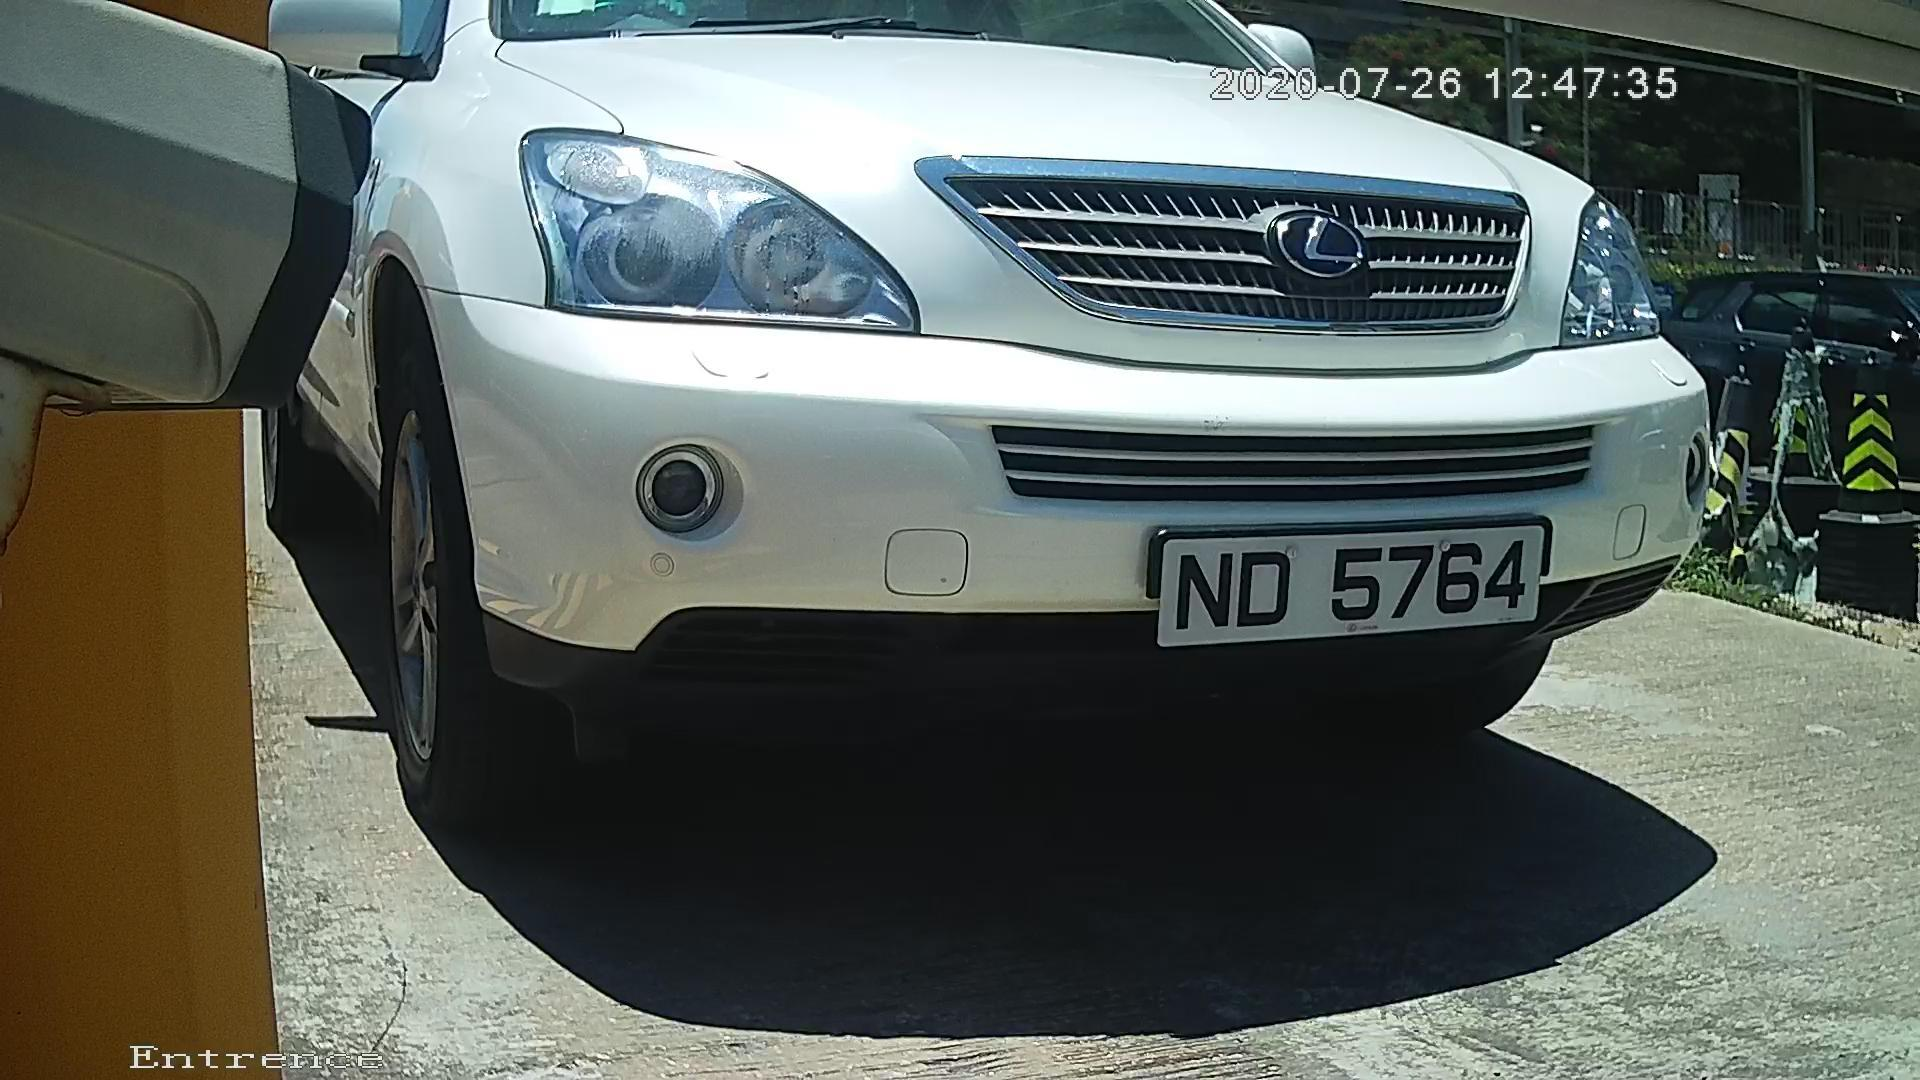privatecar: (309, 11, 1749, 960)
